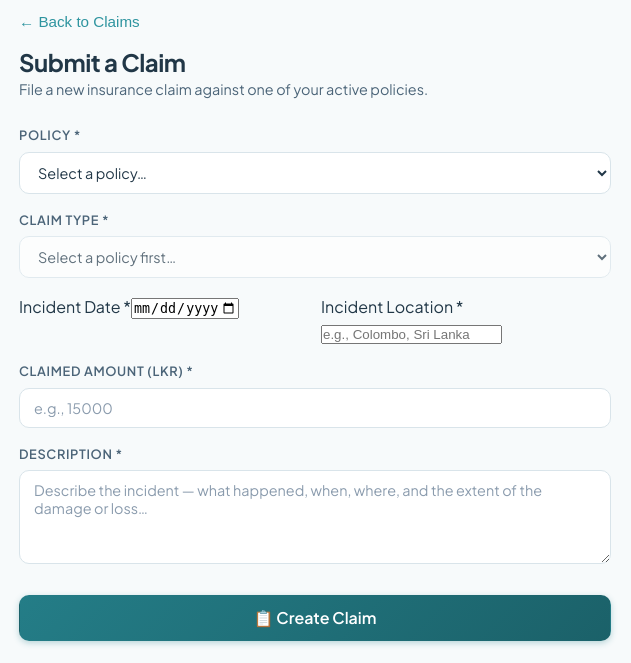
Test: ClaimCreate Compatibility & Safety Tests › auto-selects Life (3) when Life Insurance policy is selected
Select "POL-LIF-001 — Life Insurance (Coverage: LKR 2,000,000.00)" in the dropdown labelled "Policy *" at (315, 172), box [19,152,611,194]
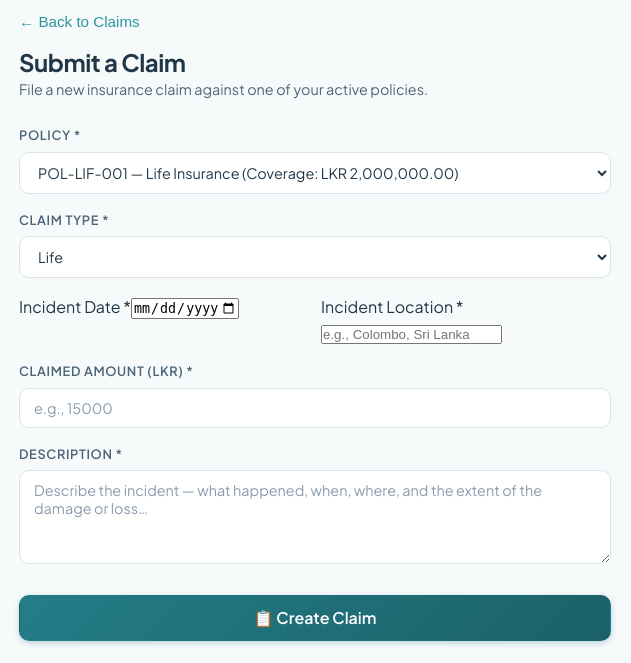
Check: the dropdown labelled "Claim Type *" shows "Life", box [19,236,611,278]
